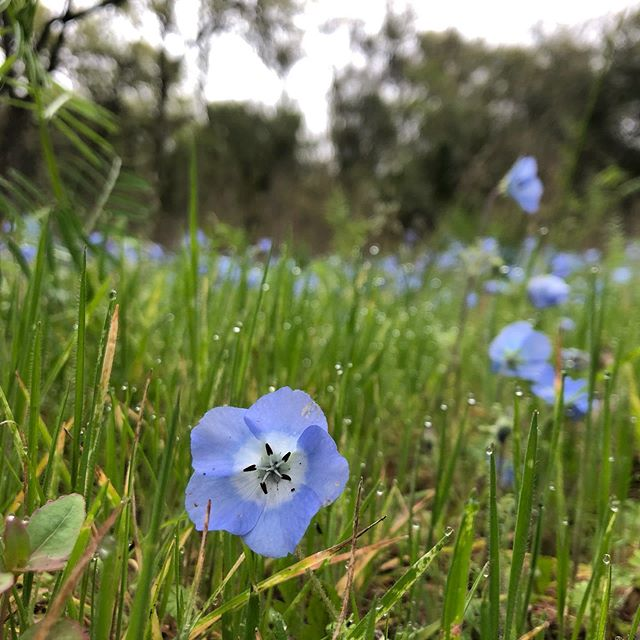flowers: (1, 170, 640, 640)
